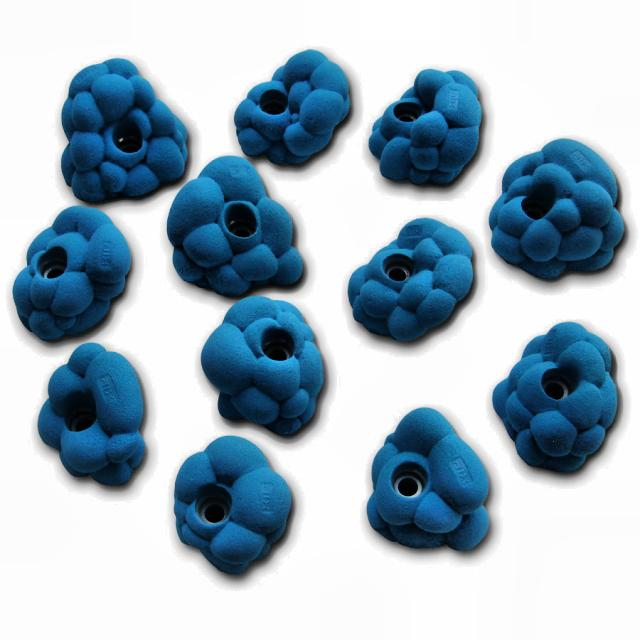Hold: (356, 399, 491, 551), (164, 154, 313, 290), (484, 136, 624, 280), (58, 50, 189, 197), (498, 320, 620, 473), (203, 304, 330, 445), (336, 217, 471, 342), (171, 440, 290, 579), (13, 206, 132, 344), (229, 42, 360, 167), (38, 344, 145, 490), (366, 70, 494, 184)
